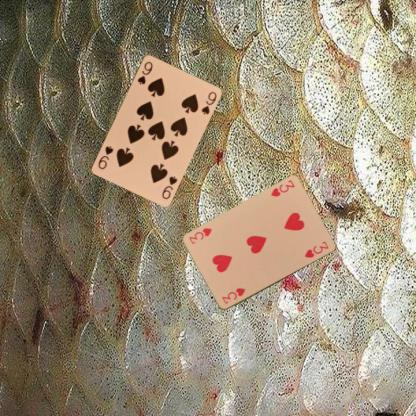3h: (268, 178, 296, 198), (219, 285, 246, 305)
9s: (134, 58, 154, 86), (159, 173, 178, 200)
